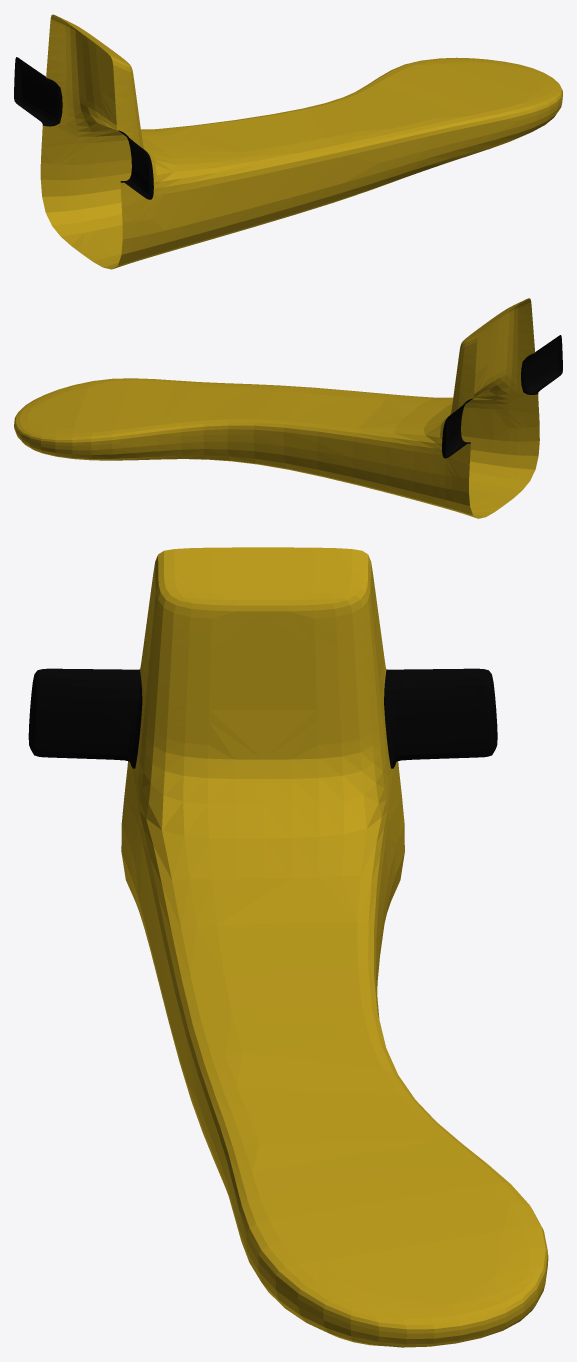
The model's file is Pedal2.obj.
3 renders of one model, top to bottom at view 1: azimuth 30°, elevation 25°; view 2: azimuth 150°, elevation 25°; view 3: azimuth 270°, elevation 25°, orthographic. The views are drawn at different scales.
Parts seen in each view (by area): view 1: Pedal2; view 2: Pedal2; view 3: Pedal2.
Boxes of the visible parts, <box> form: Pedal2: <box>14,14,562,269</box>; Pedal2: <box>14,298,562,518</box>; Pedal2: <box>28,547,548,1347</box>.
Bounding box in the file's own units: 0.0857 × 0.0351 × 0.0434.
